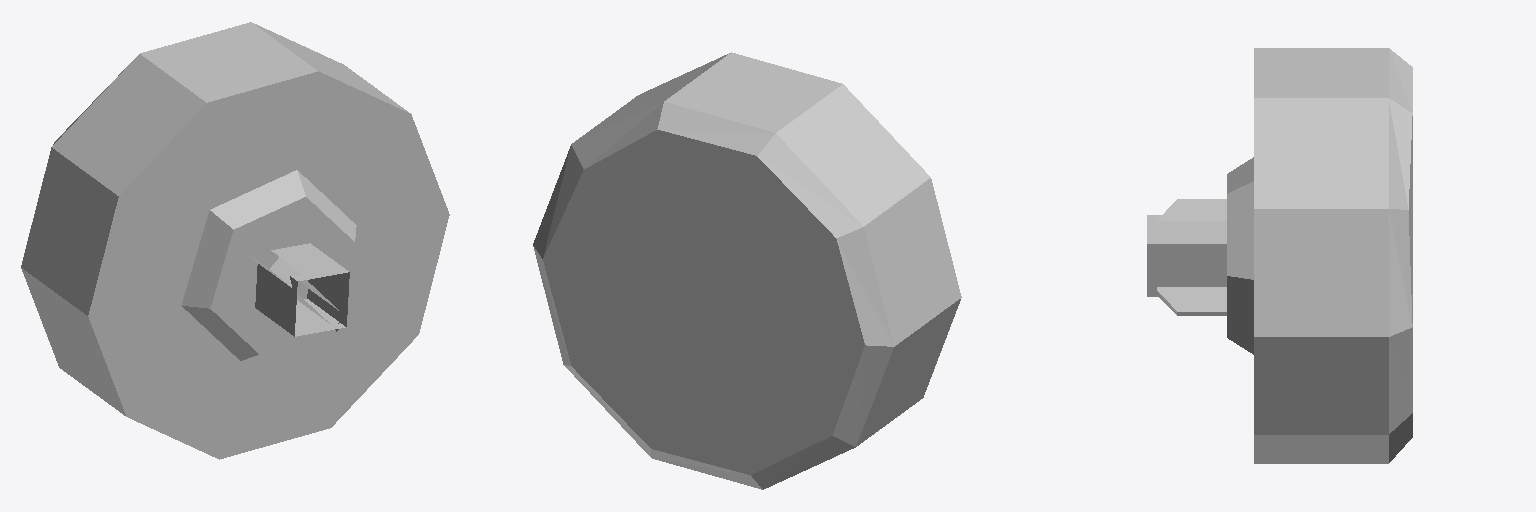
File: wheel171.obj
The picture shows the model from 3 angles: view 1: azimuth 30°, elevation 25°; view 2: azimuth 150°, elevation 25°; view 3: azimuth 270°, elevation 25°; orthographic projection.
Visible parts, largest first — view 1: wheel_low_textures; view 2: wheel_low_textures; view 3: wheel_low_textures.
Boxes of the visible parts, <box> form: wheel_low_textures: <box>21,22,449,459</box>; wheel_low_textures: <box>533,52,961,489</box>; wheel_low_textures: <box>1147,48,1412,463</box>.
Size of the model in its own units: 1.56 by 1.5 by 0.9907.